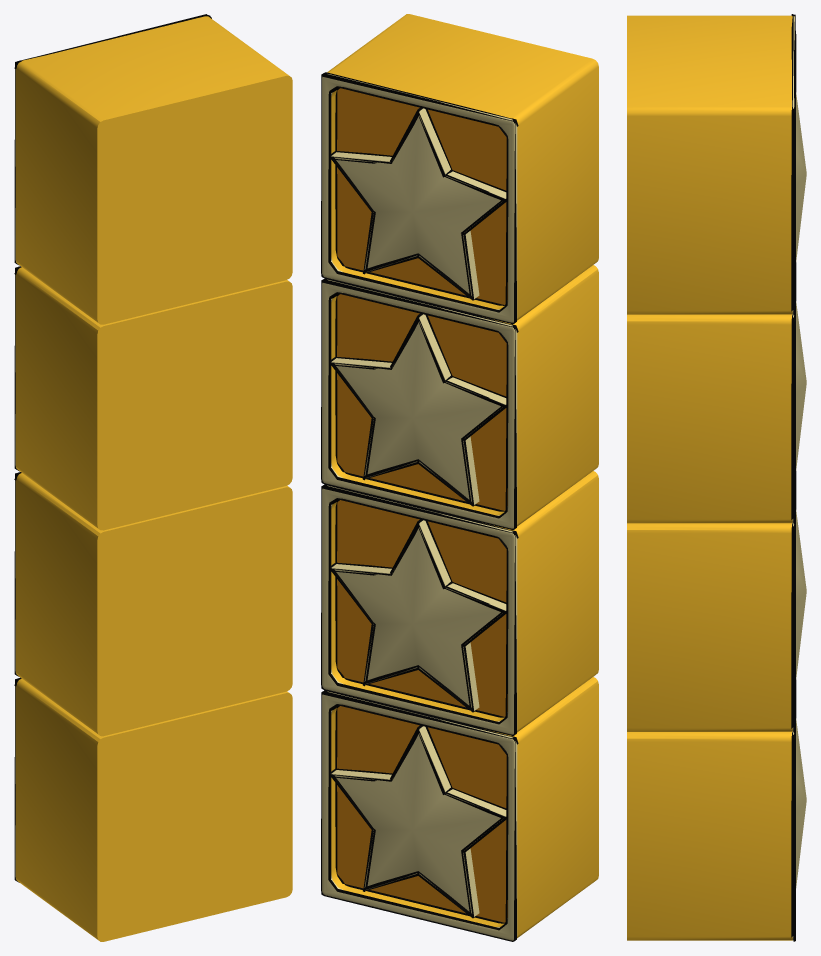
Rendered from Straightblock.fbx.
3 views of the same model, side by side, from view 1: azimuth 30°, elevation 25°; view 2: azimuth 150°, elevation 25°; view 3: azimuth 270°, elevation 25° (orthographic).
Parts seen in each view (by area): view 1: Cube.009; view 2: Cube.009; view 3: Cube.009.
Part boxes in pixels (<box>): Cube.009: <box>14,14,292,941</box>; Cube.009: <box>321,14,598,941</box>; Cube.009: <box>627,14,806,941</box>.
Size of the model in its own units: 55.6 by 222 by 43.27.
